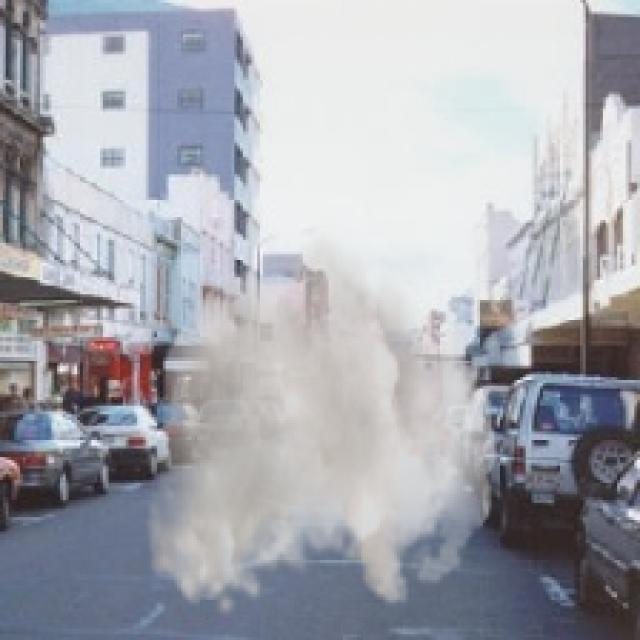Smoke: (146, 217, 497, 617)
